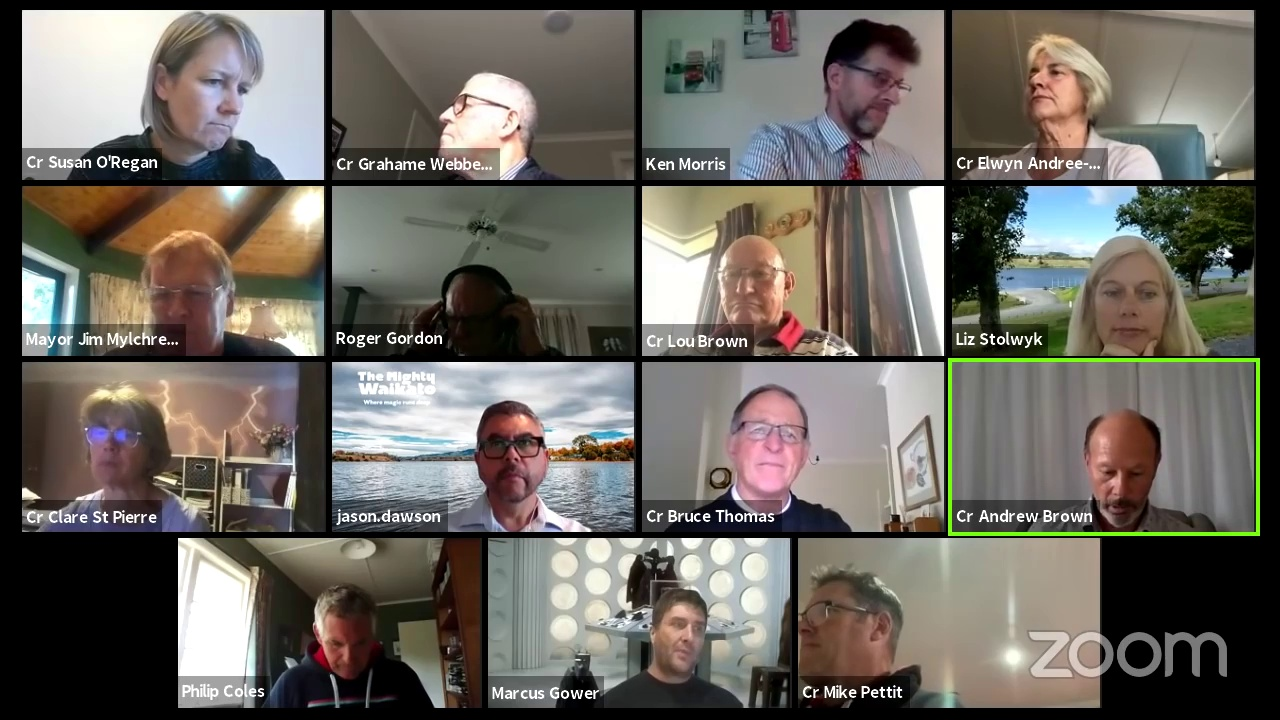Distracted: (816, 21, 924, 134), (797, 571, 898, 678), (439, 65, 534, 169), (1076, 417, 1172, 517), (416, 266, 526, 348), (475, 403, 551, 503), (307, 594, 388, 678), (1020, 42, 1104, 119)
Not Distracted: (156, 15, 260, 151), (721, 380, 816, 498), (1077, 253, 1179, 353), (142, 244, 235, 342), (79, 394, 166, 484), (711, 233, 795, 321), (648, 589, 717, 674)
